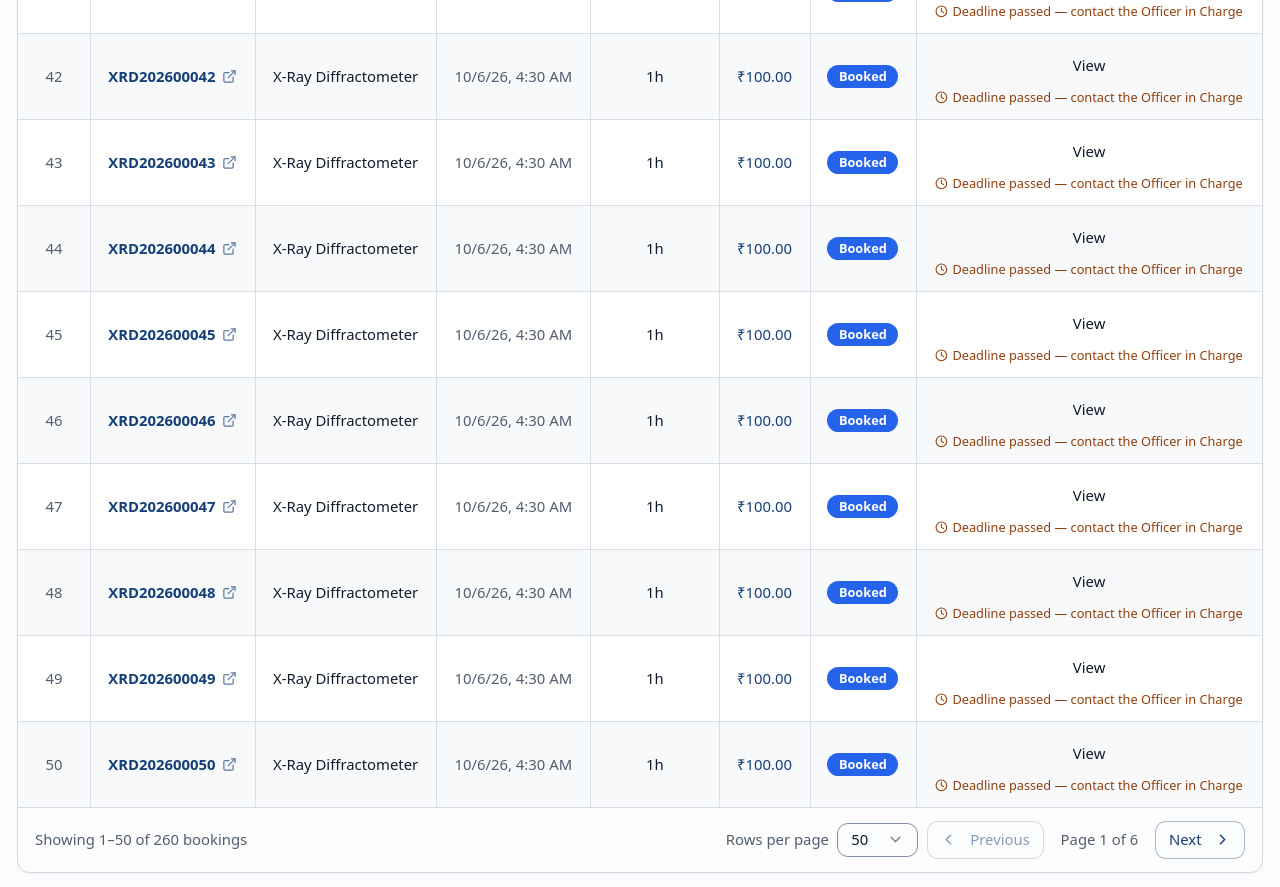
View Booking (My Bookings) live filters › starts at 50 rows, switches to 100 from page 1 and remembers the choice
(page scrolled)
Expected: the dropdown named "Rows per page" reads "50", top-left (838, 823), bottom-right (918, 857)
Click the button "Next" at (1200, 840), box top-left (1155, 820), bottom-right (1245, 859)
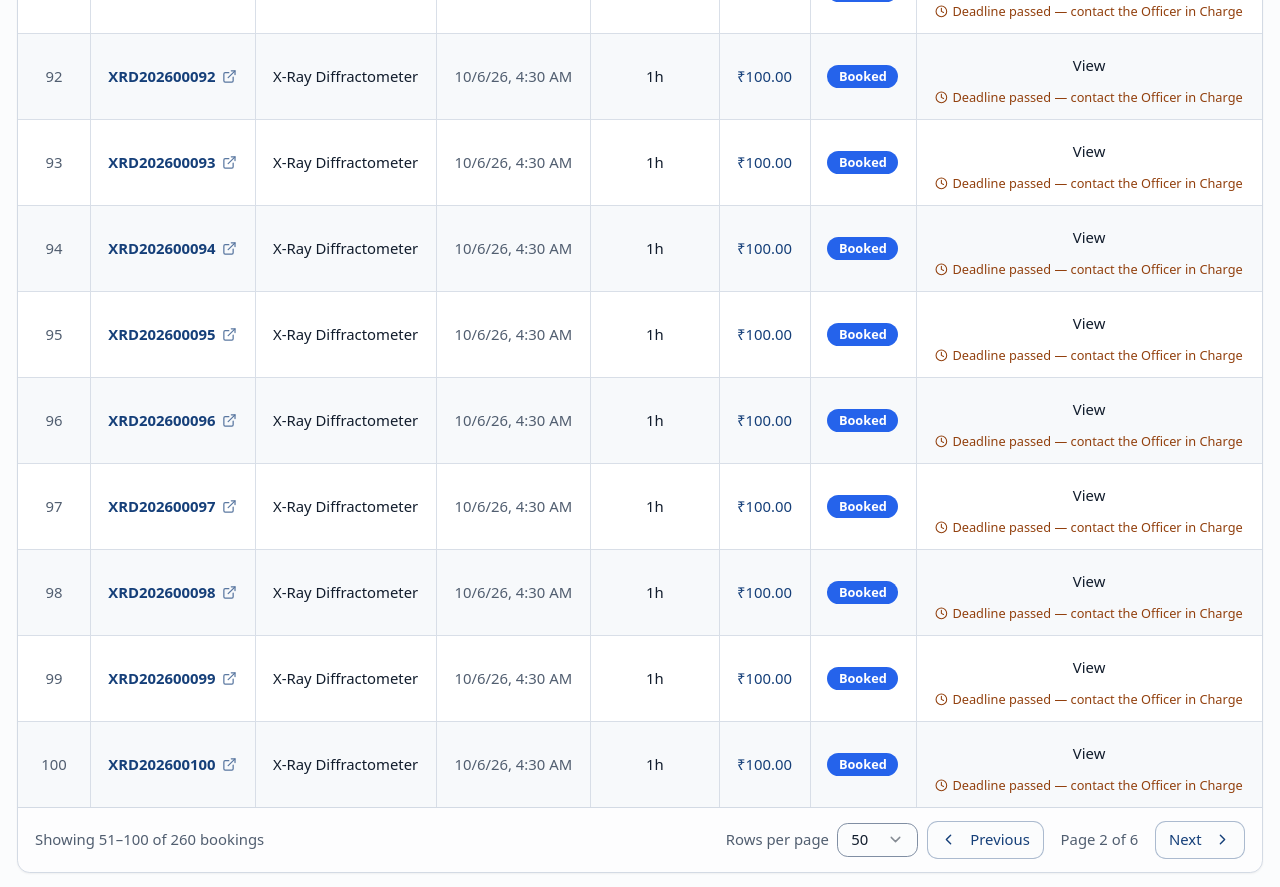
Press Enter in the dropdown named "Rows per page", box top-left (838, 823), bottom-right (918, 857)
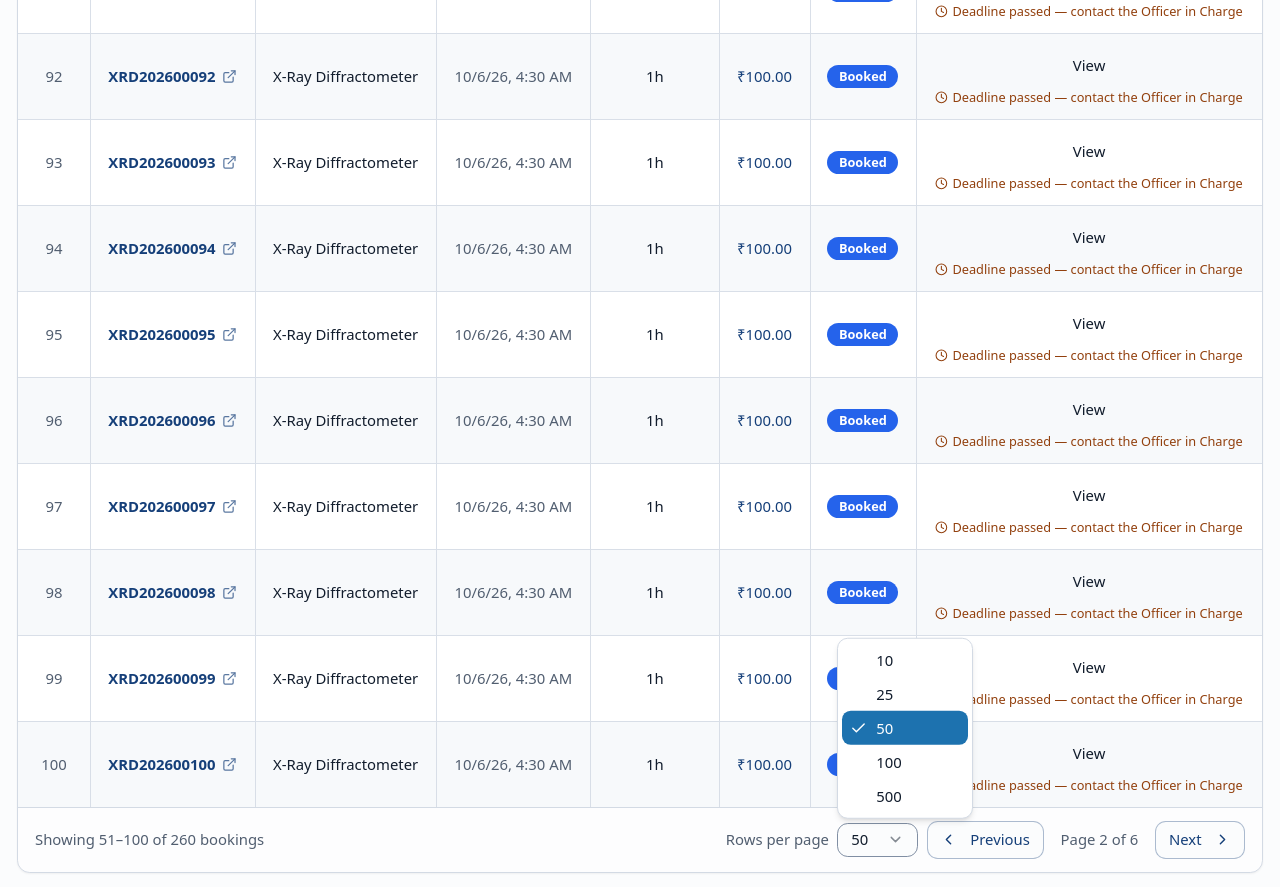
Click the option "100" at (889, 761), box top-left (876, 751), bottom-right (902, 771)
(page scrolled)
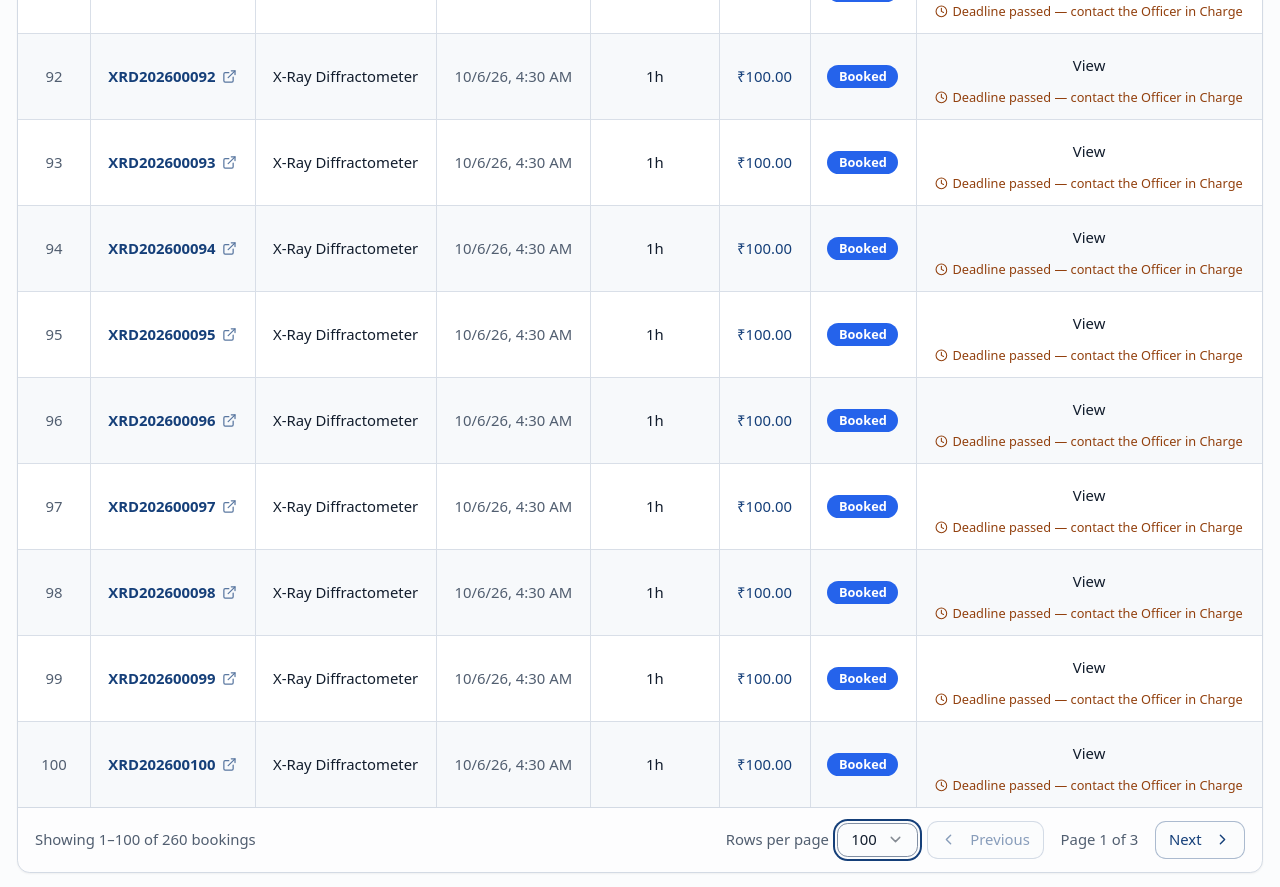
Click the button "Next" at (1200, 840), box top-left (1155, 820), bottom-right (1245, 859)
(page scrolled)
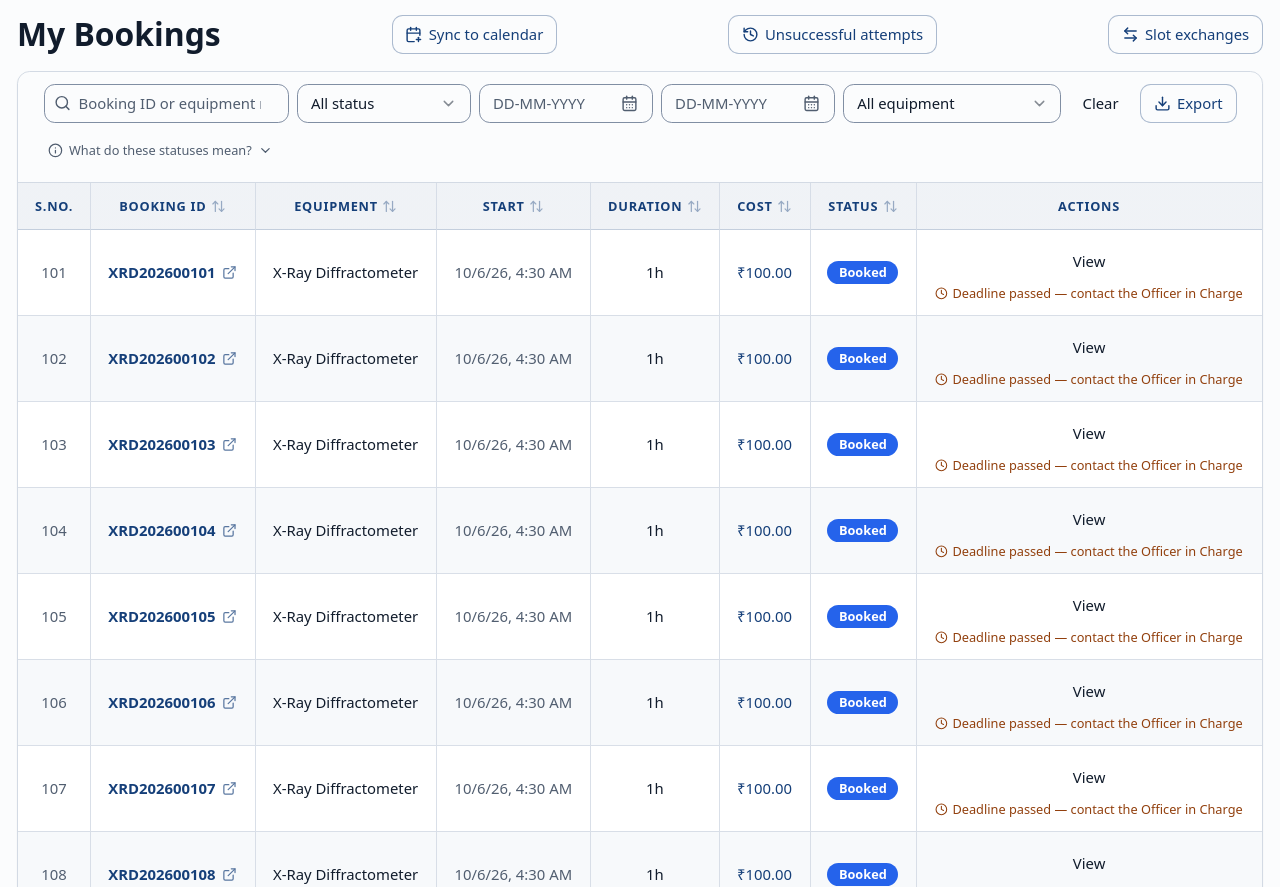
Expected: the cell "101" is shown, top-left (18, 230), bottom-right (90, 315)
